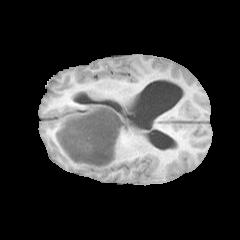glioma: (53, 104, 131, 172)
